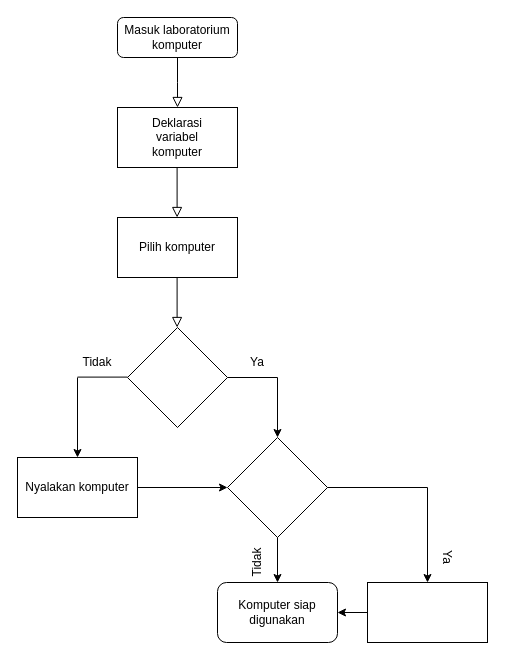
Some shapes in this 505 by 660 pixel diagram are drawn without their labels. Here are the shapes that lost their labels. From the top down, the centre of each, then its label:
[177,377]: Cek komputer nyala atau tidak
[277,487]: Error atau tidak
[427,612]: Lakukan troubleshoot
